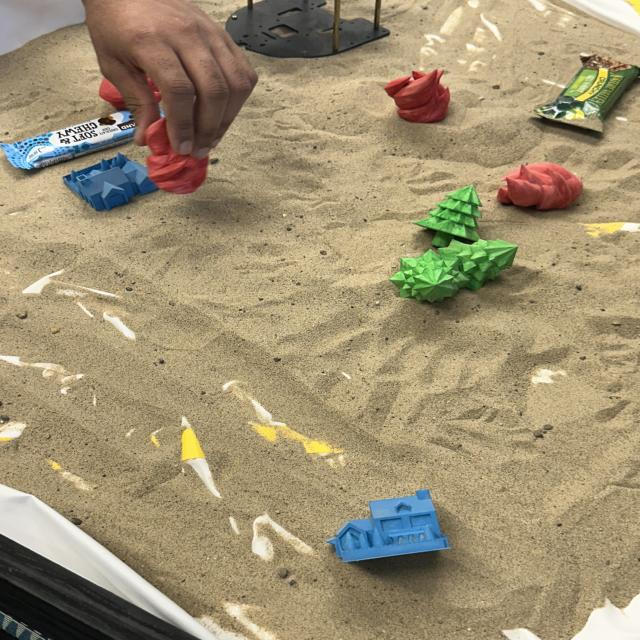fire: (148, 111, 211, 194), (495, 160, 584, 211), (382, 66, 453, 124), (100, 73, 170, 111)
house: (324, 486, 454, 564), (55, 154, 164, 213)
tree: (386, 182, 519, 305)
